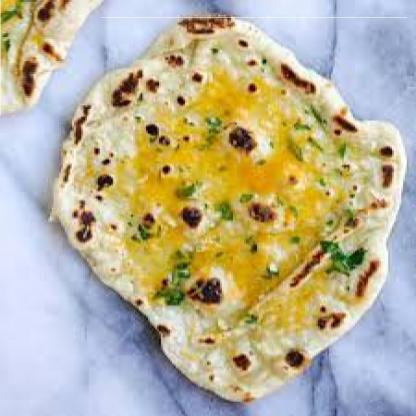naan: (51, 17, 407, 402), (0, 0, 101, 116)
